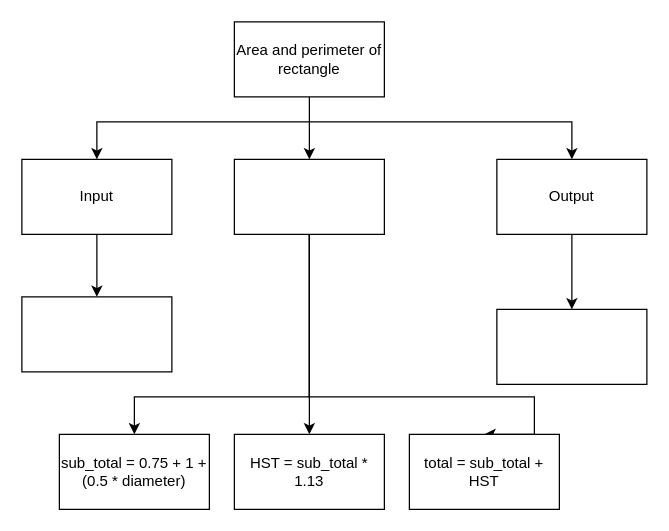
Image size: 669x531. Some labels were removed from this diagram. Here are the shapes that lost their labels. From the top down, the centre of each, then its label:
pixel 308 196: Process
pixel 96 334: Get diameter
pixel 571 346: show total
